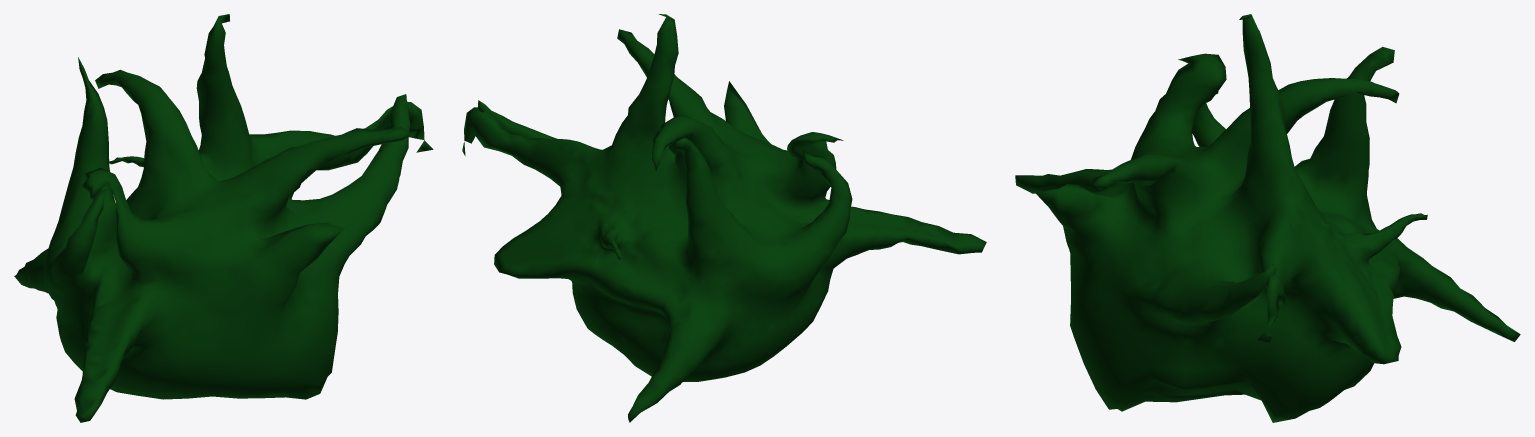
The model's file is jump_cthulhu_0010.obj.
The picture shows the model from 3 angles, left to right: view 1: azimuth 30°, elevation 25°; view 2: azimuth 150°, elevation 25°; view 3: azimuth 270°, elevation 25°; orthographic projection. The views are drawn at different scales.
Parts seen in each view (by area): view 1: Cube; view 2: Cube; view 3: Cube.
Part boxes in pixels (x1,y1,x2,y2): Cube: (14,14,433,422); Cube: (462,14,986,422); Cube: (1015,14,1520,422).
Size of the model in its own units: 1.26 by 0.9204 by 1.08.
